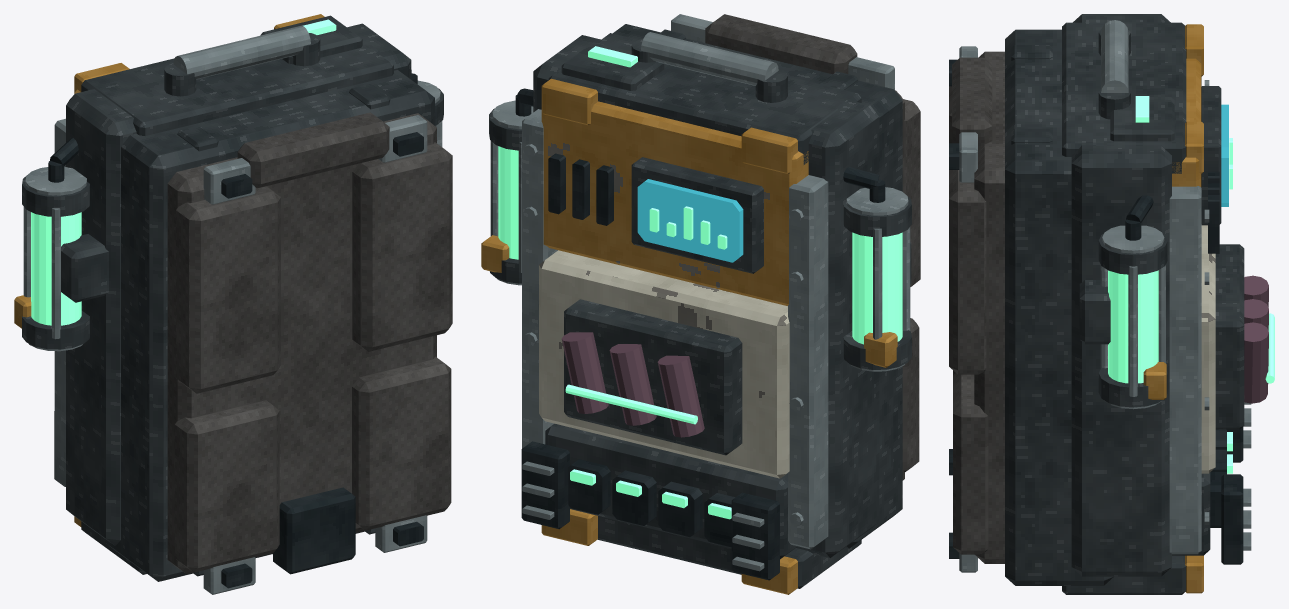
File: backpack_biotech.glb
3 renders of one model, left to right at view 1: azimuth 30°, elevation 25°; view 2: azimuth 150°, elevation 25°; view 3: azimuth 270°, elevation 25°, orthographic.
Parts seen in each view (by area): view 1: backpack_biotech; view 2: backpack_biotech; view 3: backpack_biotech.
Boxes of the visible parts, <box> form: backpack_biotech: <box>14,14,452,594</box>; backpack_biotech: <box>481,14,920,594</box>; backpack_biotech: <box>949,14,1274,594</box>.
Bounding box in the file's own units: 0.4162 × 0.4645 × 0.283.
9 materials, 6 textured.
